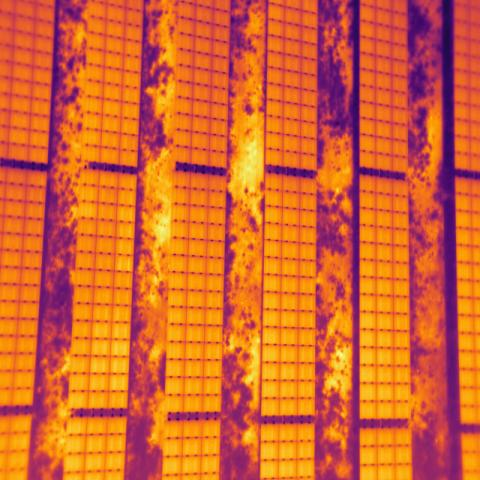fault: (77, 201, 99, 220)
